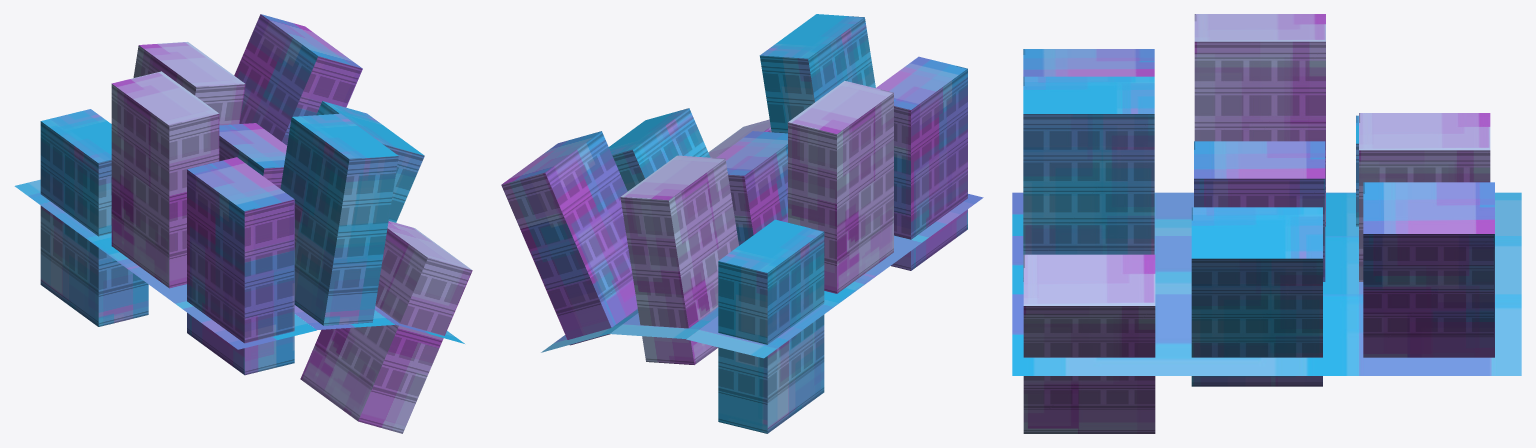
File: BuildingPiece.fbx
3 renders of one model, left to right at view 1: azimuth 30°, elevation 25°; view 2: azimuth 150°, elevation 25°; view 3: azimuth 270°, elevation 25°, orthographic. The views are drawn at different scales.
Visible parts, largest first — view 1: BuildingPiece; view 2: BuildingPiece; view 3: BuildingPiece.
Part boxes in pixels (x1,y1,x2,y2): BuildingPiece: (14,14,472,433); BuildingPiece: (501,14,983,433); BuildingPiece: (1012,14,1521,433).
Bounding box in the file's own units: 558 × 558 × 775.
Materials: 1 (1 with a texture image).
